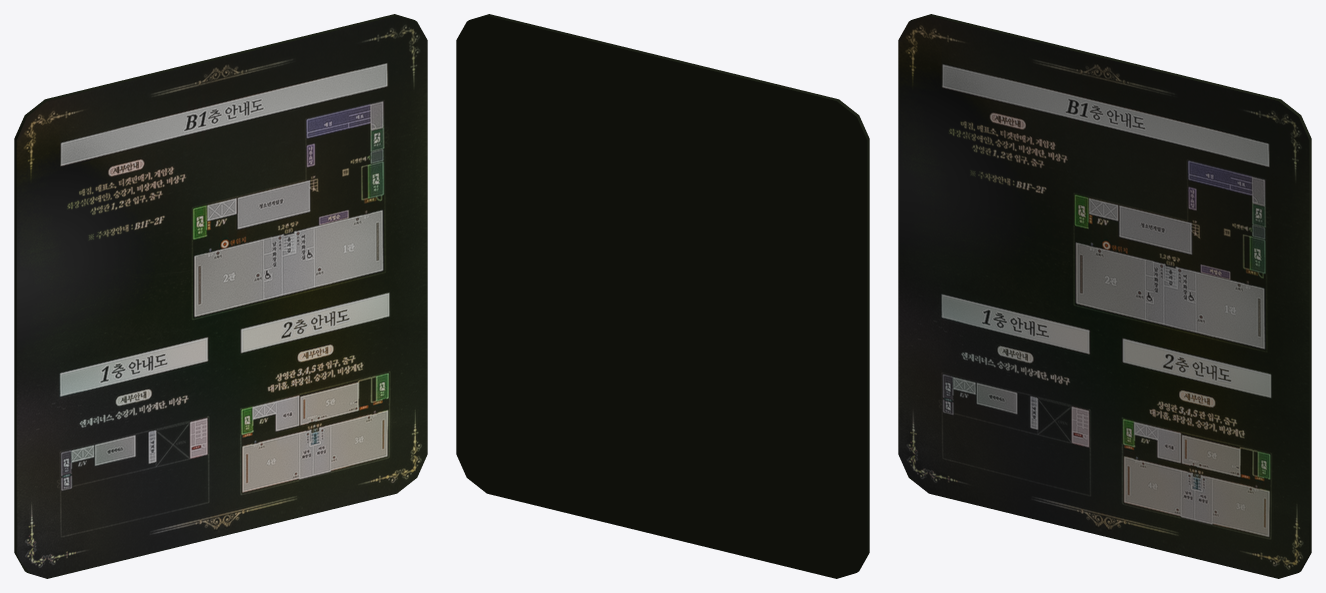
Rendered from LC_3109_Guidemap_B_LOD2.FBX.
3 renders of one model, left to right at view 1: azimuth 30°, elevation 25°; view 2: azimuth 150°, elevation 25°; view 3: azimuth 330°, elevation 25°, orthographic.
Parts seen in each view (by area): view 1: LC_3109_Guidemap_B_LOD2; view 2: LC_3109_Guidemap_B_LOD2; view 3: LC_3109_Guidemap_B_LOD2.
Part boxes in pixels (x1,y1,x2,y2): LC_3109_Guidemap_B_LOD2: (14,14,427,578); LC_3109_Guidemap_B_LOD2: (456,14,869,578); LC_3109_Guidemap_B_LOD2: (898,14,1311,578).
Bounding box in the file's own units: 100 × 112 × 1.
1 material, 1 textured.
